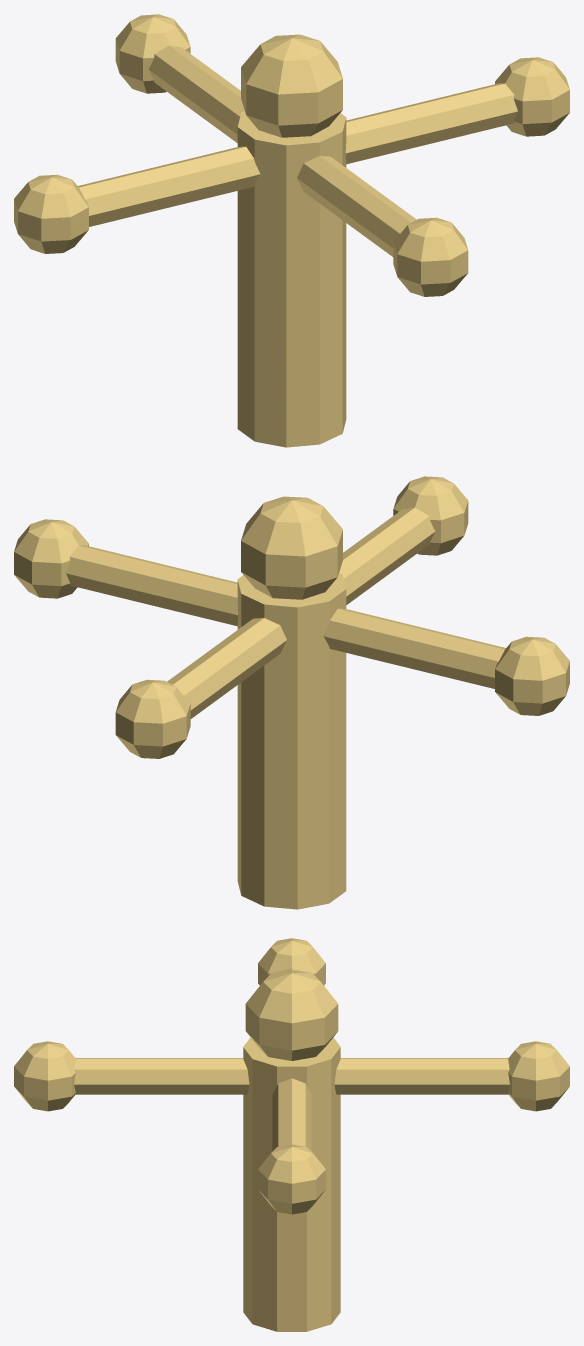
The model's file is wheel_turret.glb.
The picture shows the model from 3 angles, top to bottom: view 1: azimuth 30°, elevation 25°; view 2: azimuth 150°, elevation 25°; view 3: azimuth 270°, elevation 25°; orthographic projection. The views are drawn at different scales.
Parts seen in each view (by area): view 1: wheel_turret; view 2: wheel_turret; view 3: wheel_turret.
Boxes of the visible parts, x1,y1,x2,y2 form: wheel_turret: [14, 14, 569, 447]; wheel_turret: [14, 476, 569, 909]; wheel_turret: [14, 938, 569, 1331].
Size of the model in its own units: 0.3418 by 0.23 by 0.3418.
